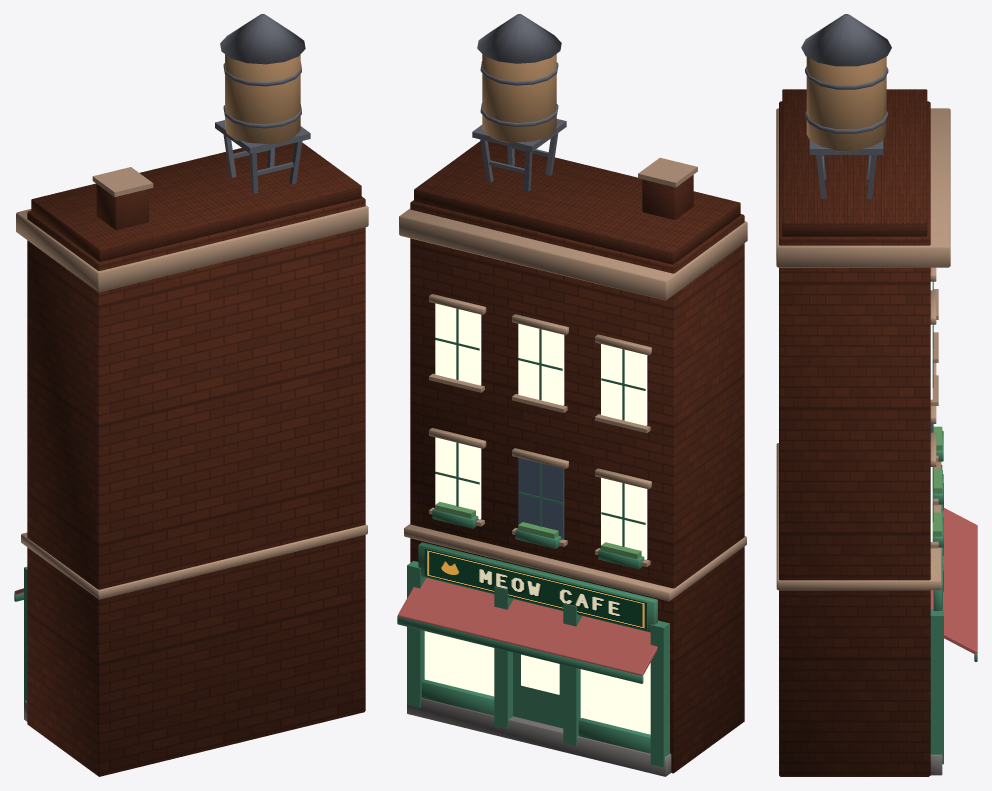
File: building_brownstone_cafe.glb
The picture shows the model from 3 angles, left to right: view 1: azimuth 30°, elevation 25°; view 2: azimuth 150°, elevation 25°; view 3: azimuth 270°, elevation 25°; orthographic projection. The views are drawn at different scales.
Visible parts, largest first — view 1: Building_Brownstone_Cafe; view 2: Building_Brownstone_Cafe; view 3: Building_Brownstone_Cafe.
Boxes of the visible parts, <box> form: Building_Brownstone_Cafe: <box>14,14,368,776</box>; Building_Brownstone_Cafe: <box>397,14,747,776</box>; Building_Brownstone_Cafe: <box>776,14,977,776</box>.
Bounding box in the file's own units: 6.08 × 14.79 × 3.72.
11 materials, 2 textured.
